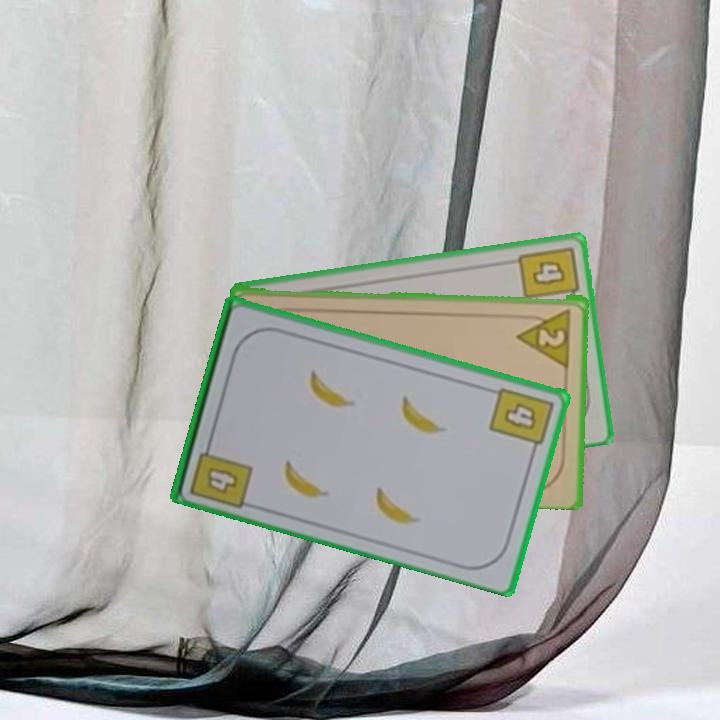2p: (514, 304, 575, 368)
4b: (485, 383, 556, 457), (186, 435, 253, 511), (515, 242, 581, 306)
